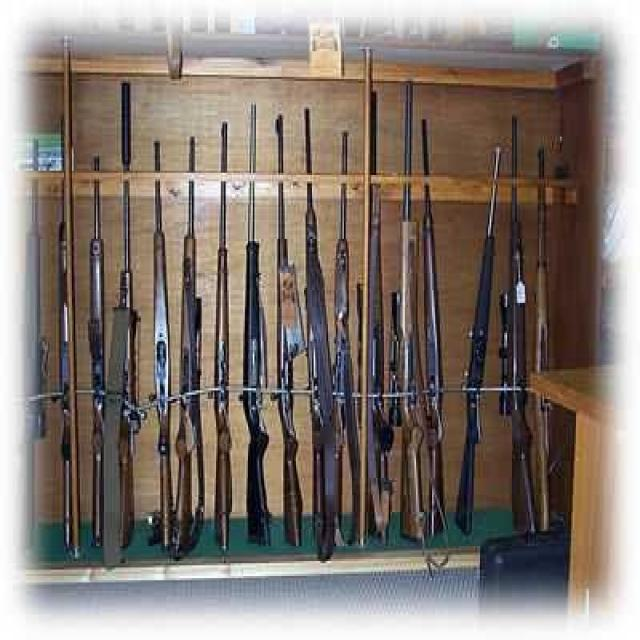heavyweapon: (270, 108, 331, 556), (97, 67, 150, 556), (299, 104, 348, 582), (238, 95, 289, 549), (49, 97, 97, 568), (208, 112, 259, 553), (393, 73, 433, 575), (457, 138, 507, 539), (84, 146, 131, 560), (504, 104, 547, 537), (147, 127, 190, 558), (337, 112, 374, 549), (361, 80, 395, 551), (15, 129, 49, 573), (182, 129, 217, 560), (535, 136, 569, 535), (419, 108, 446, 528)
